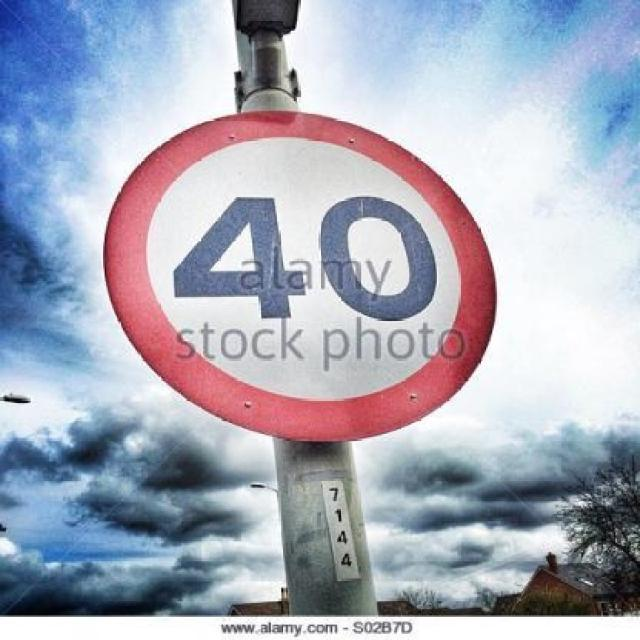forb_speed_over_40: (122, 112, 501, 436)
